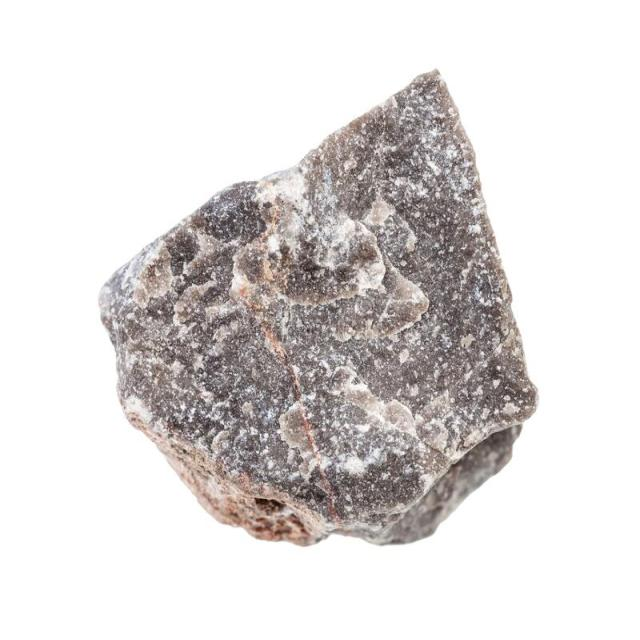Sedimentary: (72, 67, 546, 543)
